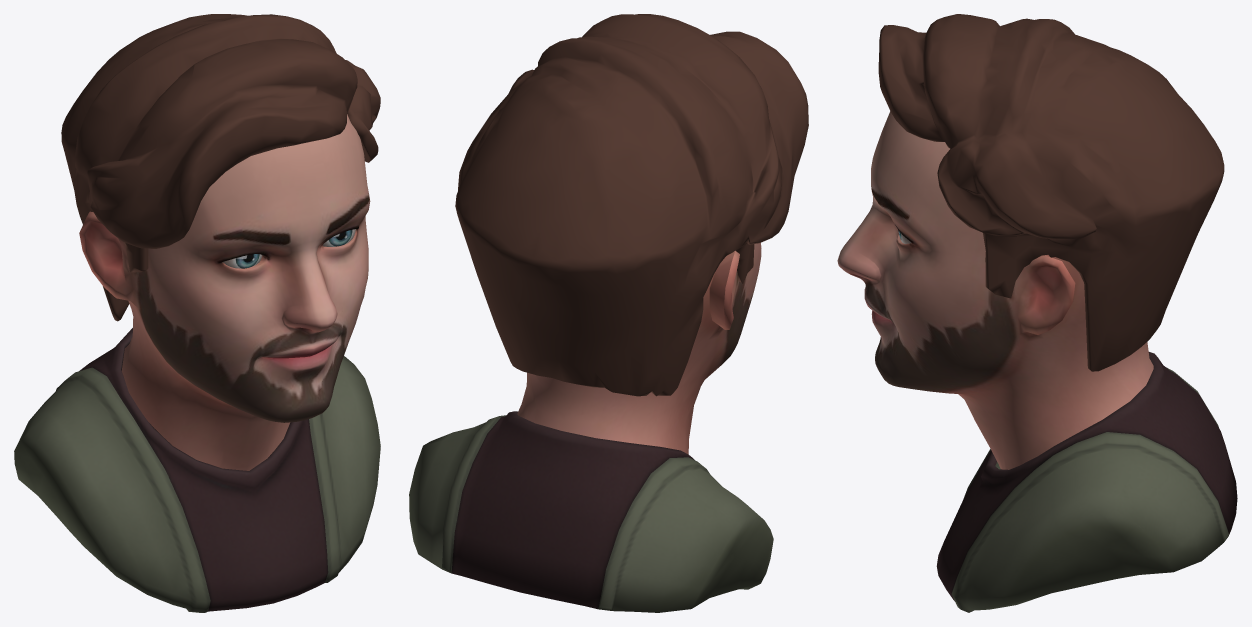
File: avatar.glb
The picture shows the model from 3 angles, left to right: view 1: azimuth 30°, elevation 25°; view 2: azimuth 150°, elevation 25°; view 3: azimuth 270°, elevation 25°; orthographic projection.
Parts seen in each view (by area): view 1: Wolf3D_Head, Wolf3D_Shirt, Wolf3D_Hair; view 2: Wolf3D_Hair, Wolf3D_Shirt, Wolf3D_Head; view 3: Wolf3D_Hair, Wolf3D_Head, Wolf3D_Shirt.
Part boxes in pixels (box(x1,y1,x2,y2)): Wolf3D_Head: box(79, 114, 370, 470); Wolf3D_Shirt: box(14, 328, 380, 612); Wolf3D_Hair: box(61, 14, 380, 321); Wolf3D_Hair: box(455, 14, 808, 396); Wolf3D_Shirt: box(409, 411, 773, 612); Wolf3D_Head: box(517, 243, 761, 454); Wolf3D_Hair: box(878, 14, 1224, 371); Wolf3D_Head: box(837, 111, 1153, 469); Wolf3D_Shirt: box(936, 352, 1237, 612).
Bounding box in the file's own units: 0.2241 × 0.3723 × 0.2447.
Materials: 5 (5 with a texture image).
